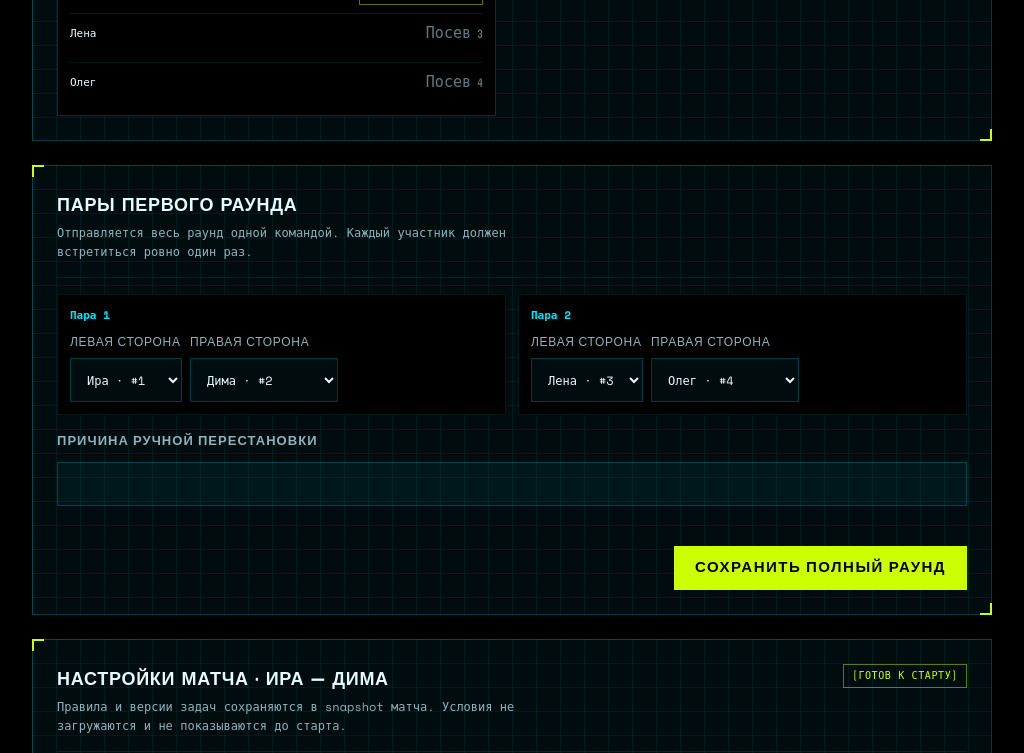
Test: admin bracket and match controls › requires a complete unique pairing set and saves the full round with a reason
(page scrolled)
Select "Дима · #2" in the dropdown named "Пара 1, левая сторона" at (126, 380), box [70, 358, 182, 402]
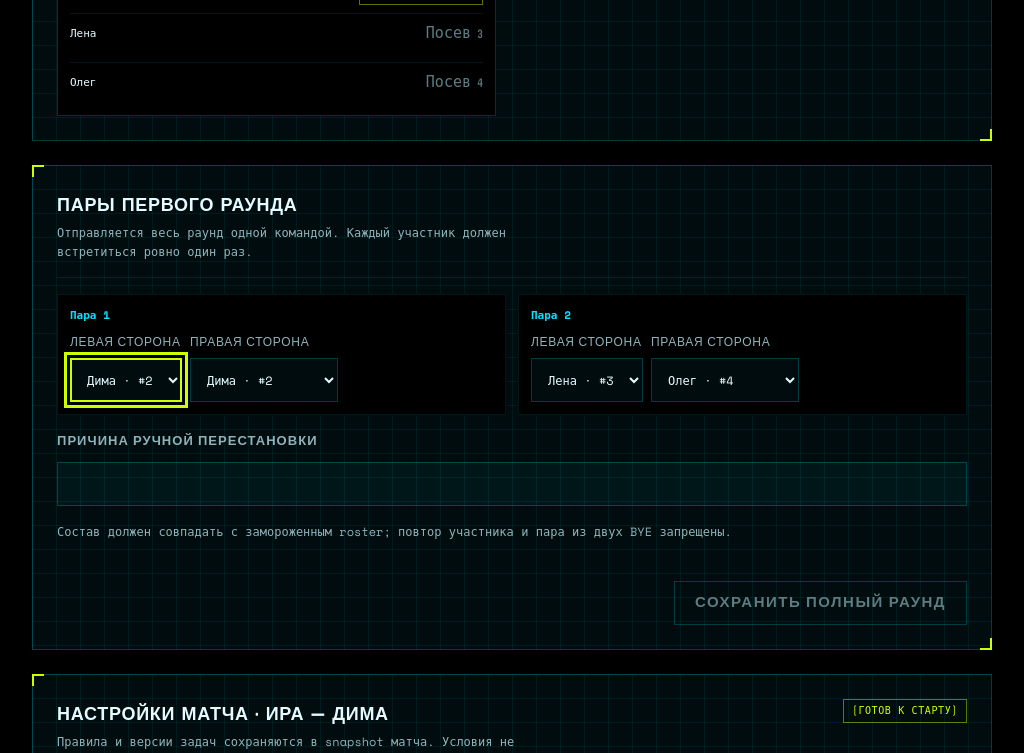
expect the button "Сохранить полный раунд" is disabled: met, box [674, 581, 967, 625]
Select "Лена · #3" in the dropdown named "Пара 1, левая сторона" at (126, 380), box [70, 358, 182, 402]
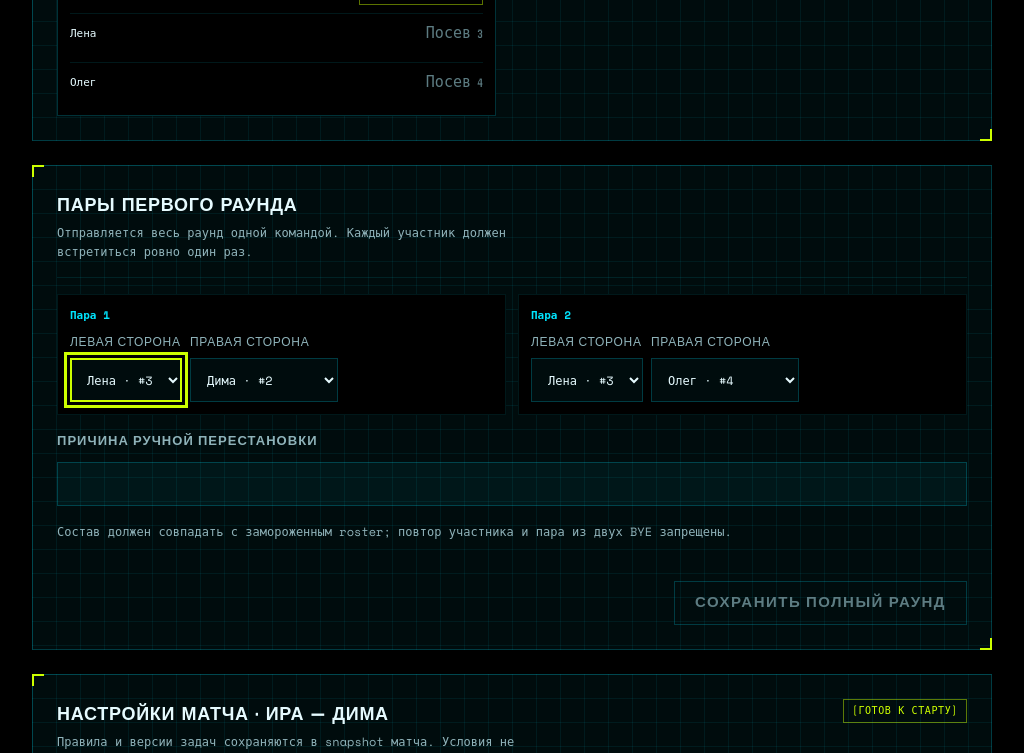
Select "Ира · #1" in the dropdown named "Пара 2, левая сторона" at (587, 380), box [531, 358, 643, 402]
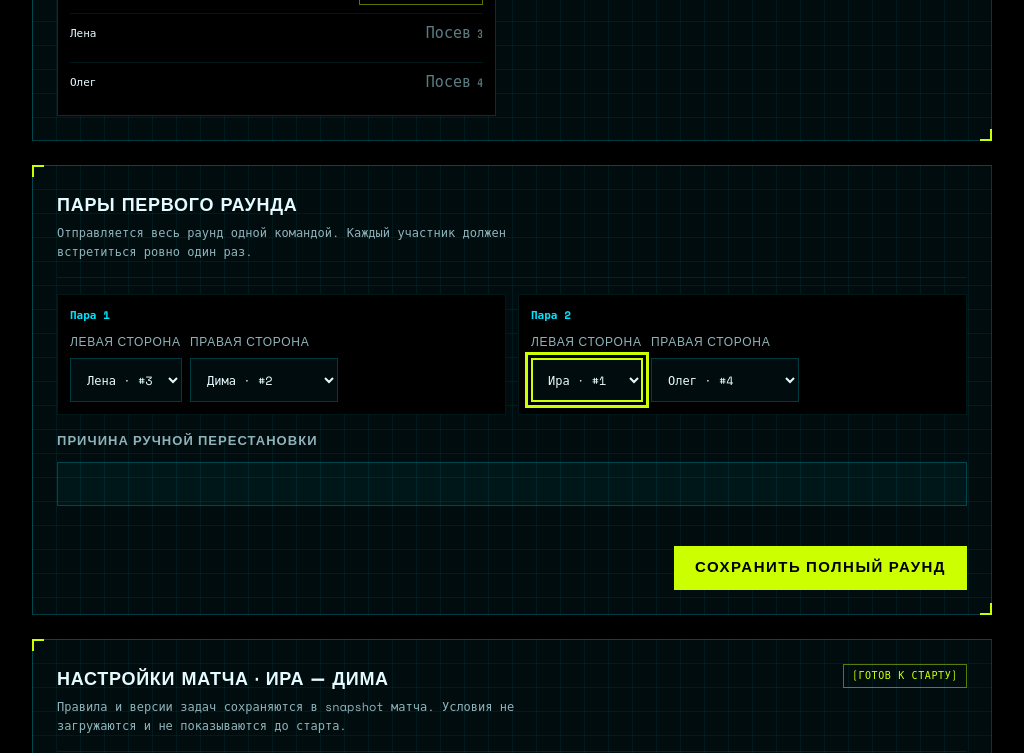
Type "Уточнение жеребьёвки" into the field labelled "Причина ручной перестановки" at (512, 484), box [57, 462, 967, 506]
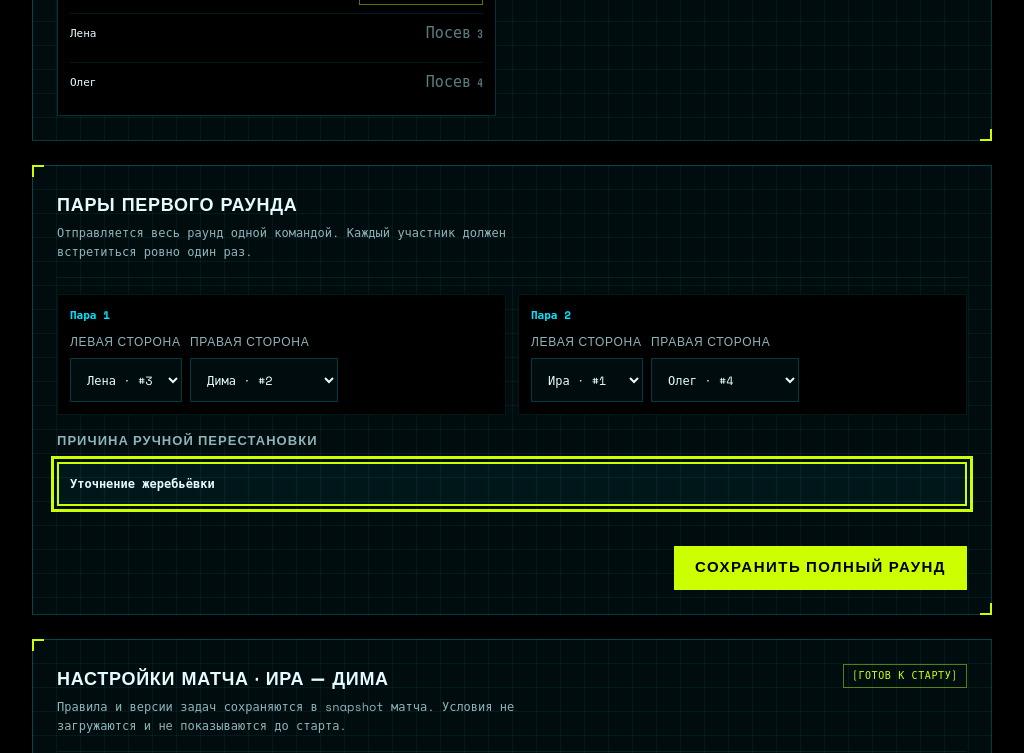
Click the button "Сохранить полный раунд" at (821, 568), box [674, 546, 967, 590]
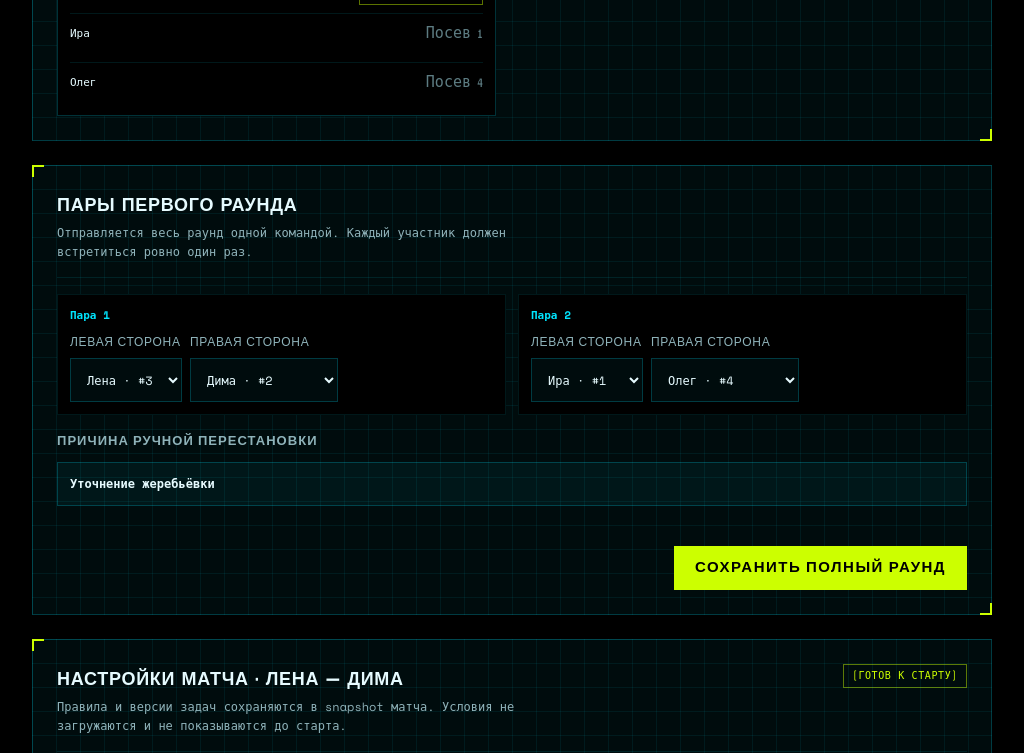
expect the heading "Настройки матча · Лена — Дима" is shown: met, box [57, 667, 404, 689]
